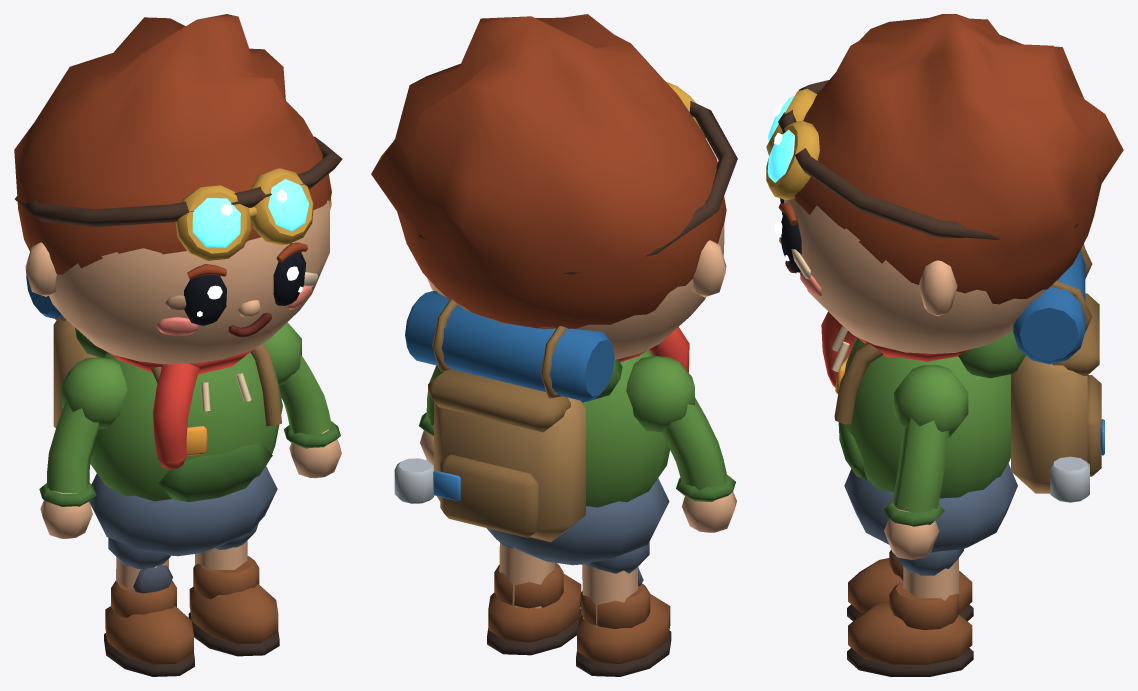
File: npc_survivor.glb
The picture shows the model from 3 angles, left to right: view 1: azimuth 30°, elevation 25°; view 2: azimuth 150°, elevation 25°; view 3: azimuth 270°, elevation 25°; orthographic projection. The views are drawn at different scales.
Parts seen in each view (by area): view 1: Head, Body, LegL, ArmL, LegR, ArmR; view 2: Head, Body, ArmL, LegL, LegR, ArmR; view 3: Head, Body, LegR, ArmR, LegL.
Part boxes in pixels (<box>): Head: <box>14,14,342,364</box>; Body: <box>26,275,282,556</box>; LegL: <box>104,537,194,676</box>; ArmL: <box>39,357,127,538</box>; LegR: <box>188,523,279,656</box>; ArmR: <box>264,322,341,478</box>; Head: <box>371,14,737,359</box>; Body: <box>394,290,689,565</box>; ArmL: <box>626,356,736,532</box>; LegL: <box>576,542,671,676</box>; LegR: <box>487,540,581,655</box>; ArmR: <box>419,365,442,465</box>; Head: <box>766,14,1123,353</box>; Body: <box>821,244,1104,552</box>; LegR: <box>847,549,973,676</box>; ArmR: <box>883,365,968,559</box>; LegL: <box>847,549,973,621</box>.
Size of the model in its own units: 0.534 by 1.02 by 0.5142.
